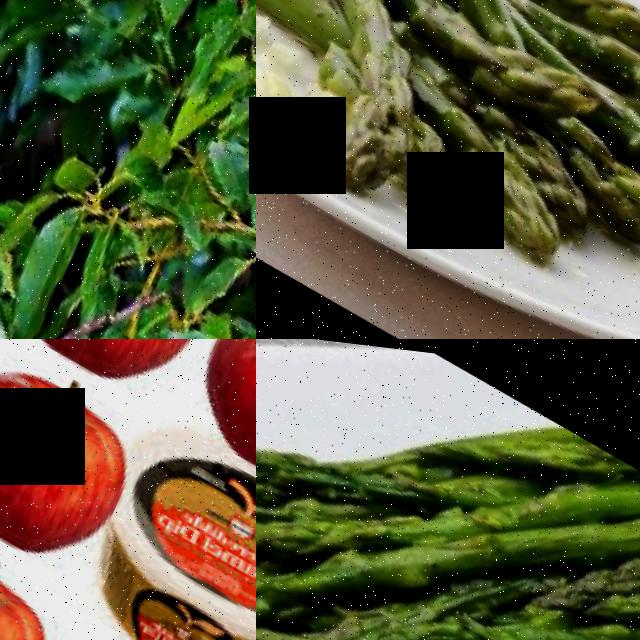apple: (0, 339, 162, 583), (161, 339, 256, 520), (0, 339, 237, 408), (0, 504, 80, 640)
asparagus: (264, 0, 448, 199), (427, 0, 600, 133), (432, 115, 573, 247), (538, 109, 640, 258), (558, 0, 640, 176), (584, 80, 640, 229)
avocado: (64, 311, 156, 339)
